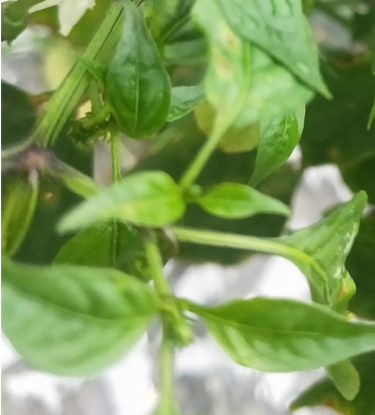blight: (1, 121, 87, 187)
